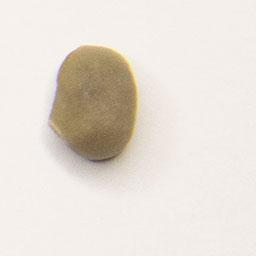premium: (45, 40, 142, 166)
